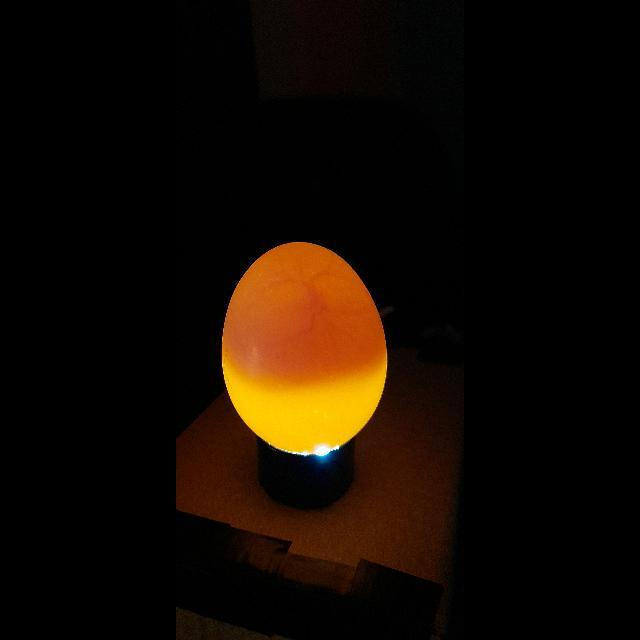Fertile: (222, 235, 390, 457)
